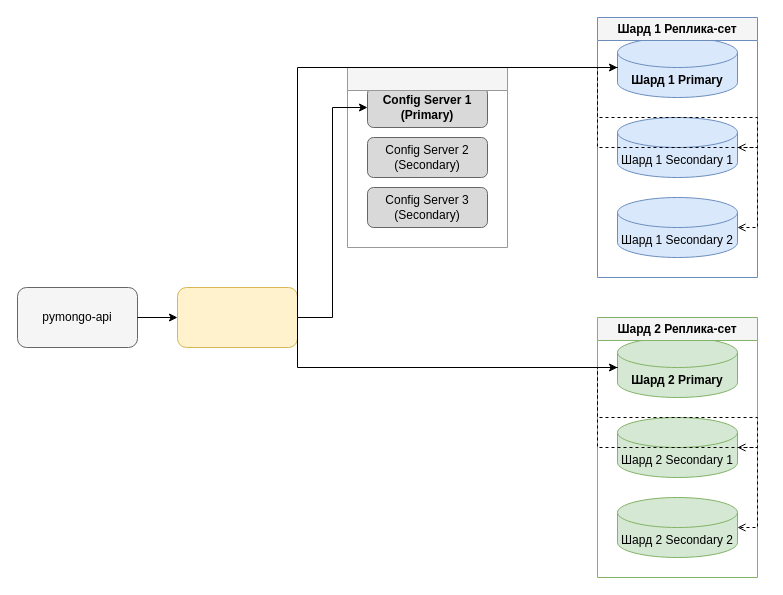
This 783x595 diagram has some shape labels left out. The box of each missing label's shape, as (x1, y1, x2, y2) in pixels:
mongos (роутер запросов): (176, 286, 298, 348)
Конфиг-реплика-сет: (346, 66, 508, 248)
